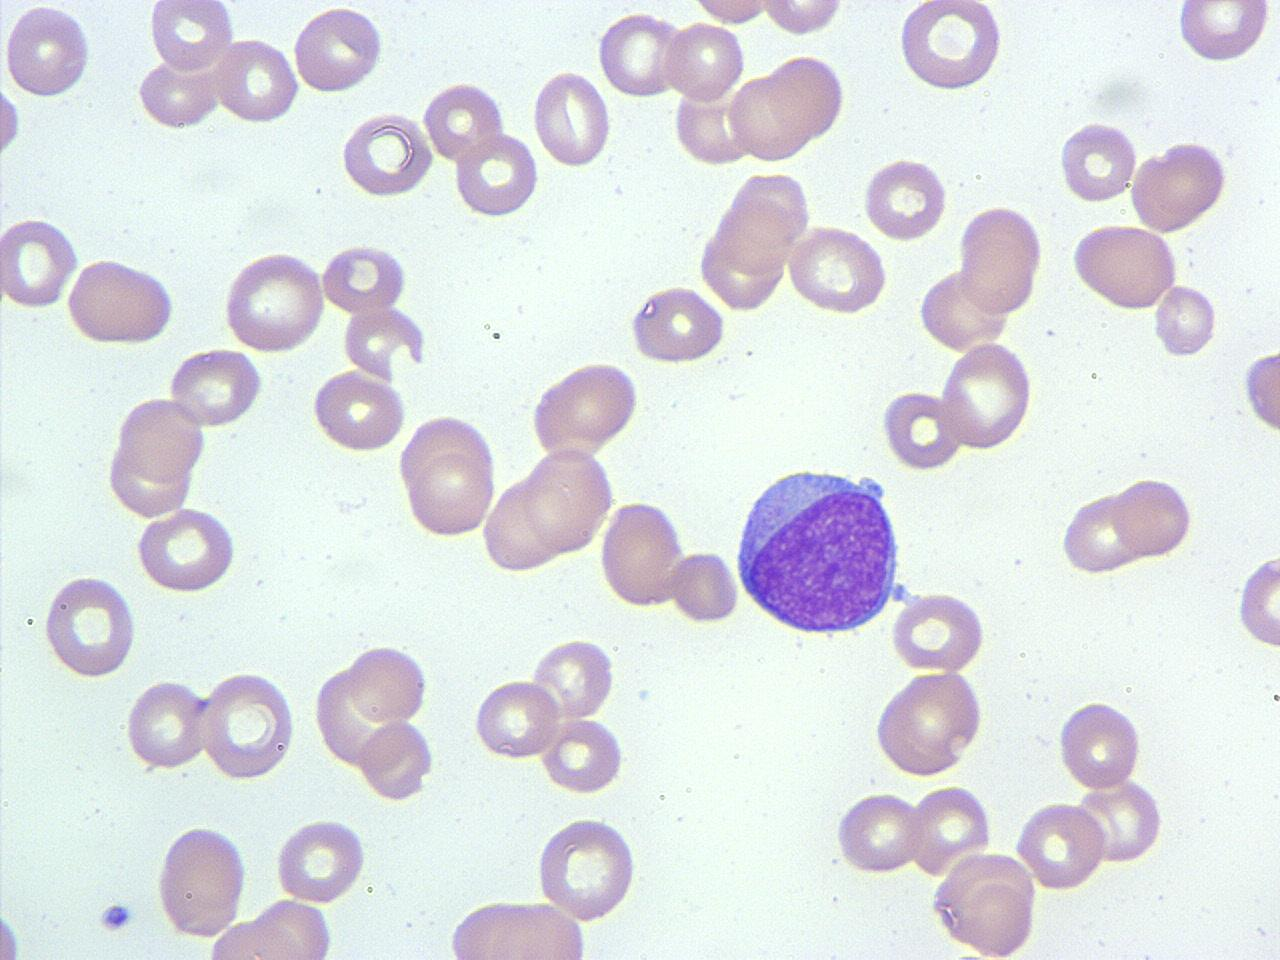Platelets: (94, 897, 137, 935)
RBC: (396, 410, 500, 540), (872, 668, 986, 778), (928, 850, 1039, 958), (533, 814, 641, 924), (153, 820, 250, 940), (220, 248, 329, 354), (528, 358, 641, 460), (200, 668, 299, 782), (939, 338, 1037, 452), (518, 446, 616, 558), (64, 256, 181, 348), (42, 572, 141, 680), (954, 203, 1046, 315), (598, 496, 688, 610), (894, 1, 1006, 92), (1069, 221, 1179, 313), (1129, 138, 1231, 234), (131, 506, 240, 595), (313, 659, 400, 770), (785, 224, 891, 315), (2, 2, 94, 102), (1012, 798, 1109, 891), (444, 898, 592, 958), (290, 4, 385, 97), (272, 815, 370, 904), (310, 366, 409, 454), (339, 108, 434, 199), (103, 432, 200, 520), (1075, 774, 1167, 866), (626, 282, 726, 366), (888, 590, 988, 674), (1055, 698, 1145, 791), (530, 66, 612, 168), (696, 223, 790, 311), (113, 394, 209, 480), (124, 675, 209, 772), (832, 788, 923, 878), (165, 348, 267, 428), (860, 153, 950, 243), (214, 34, 302, 126), (916, 268, 1012, 350), (0, 213, 80, 311), (451, 130, 540, 218), (726, 72, 811, 164), (472, 676, 562, 762), (596, 10, 682, 100), (530, 635, 618, 721), (912, 782, 992, 876), (421, 78, 507, 164), (765, 52, 847, 142), (339, 303, 431, 383), (878, 386, 964, 470), (1057, 117, 1139, 205), (1112, 474, 1194, 562), (201, 906, 334, 960), (346, 642, 431, 726), (666, 18, 748, 105), (1060, 488, 1142, 574), (540, 714, 626, 796), (321, 238, 410, 316), (1174, 0, 1272, 67), (146, 0, 237, 72), (360, 718, 436, 804), (136, 59, 222, 131), (670, 544, 742, 626), (1152, 282, 1220, 358), (1234, 548, 1280, 654), (1242, 343, 1280, 436), (758, 0, 848, 37), (688, 0, 774, 26), (0, 72, 22, 165), (0, 897, 25, 960)
WBC: (728, 463, 910, 640)
